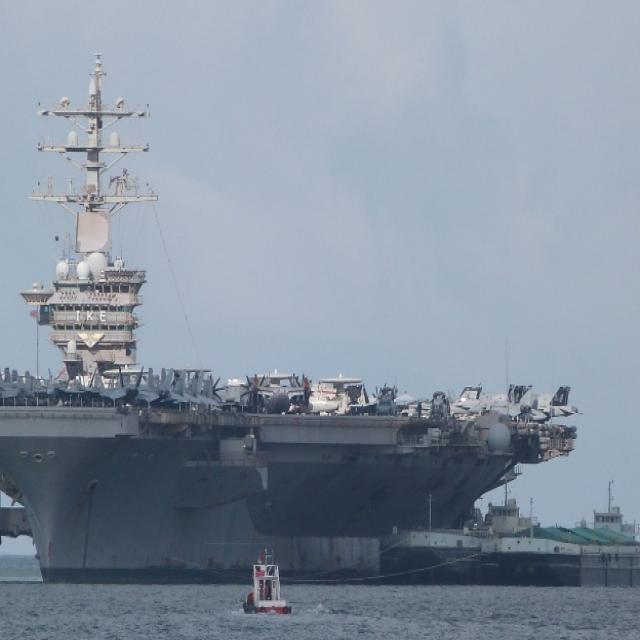Portanaves: (1, 61, 580, 606)
